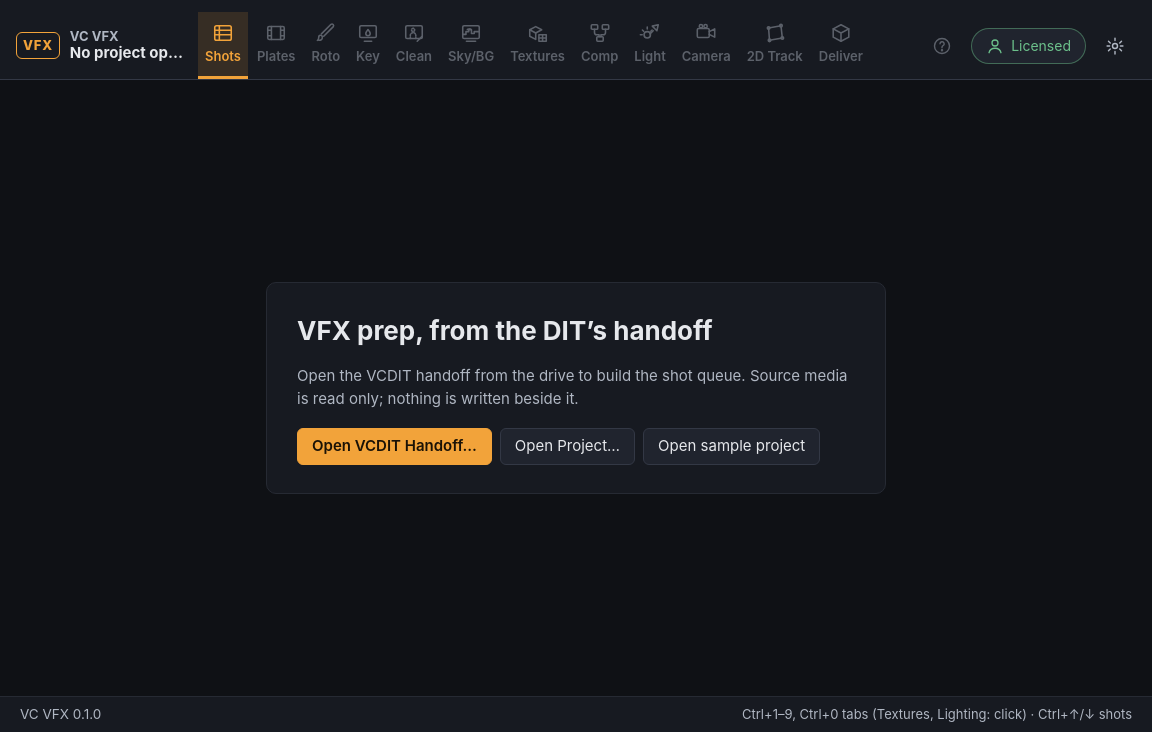
Test: a VCDIT handoff › opens, shows the day, and leaves frames unknown when ffprobe is missing
The image size is (1152, 732).
Step 1. Click the button "Open VCDIT Handoff…" → (394, 447), box [297, 428, 492, 465]
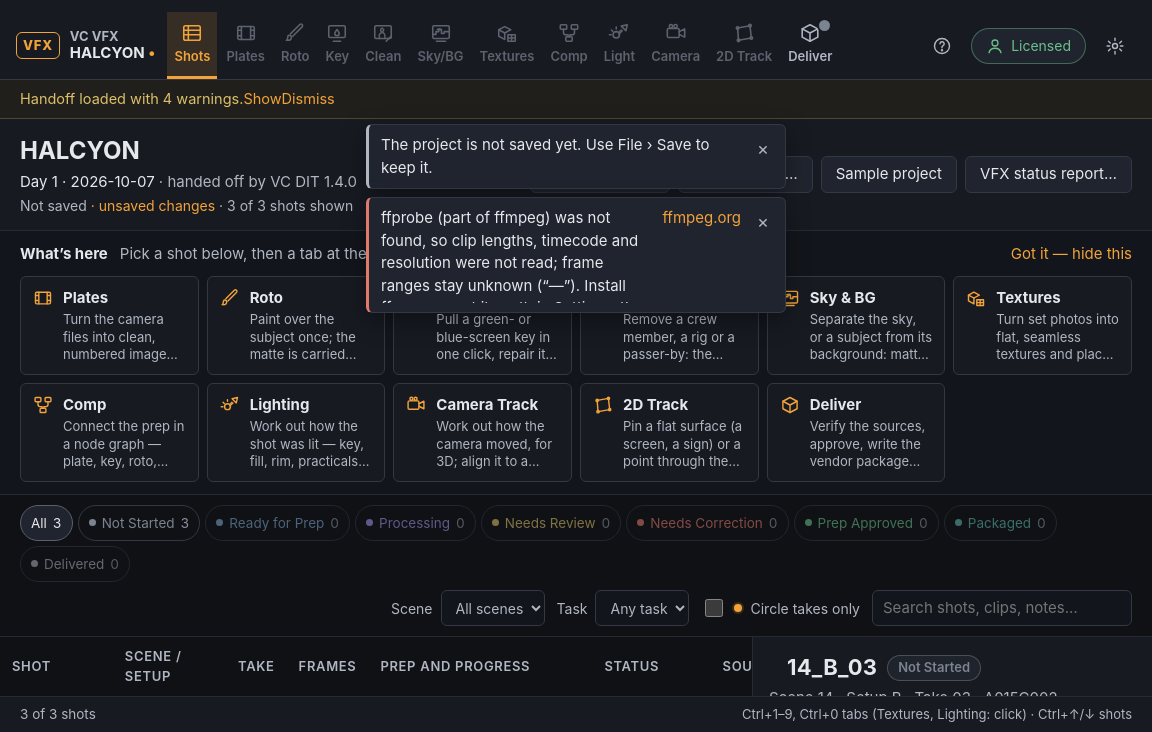
Check: the text "Day 1 · 2026-10-07 · handed off by VC DIT 1.4.0" is shown, box [20, 172, 357, 191]
Check: the text "—" is shown, box [287, 637, 368, 696]
Check: the text "ffprobe (part of ffmpeg) was not found" is shown, box [381, 208, 656, 340]
